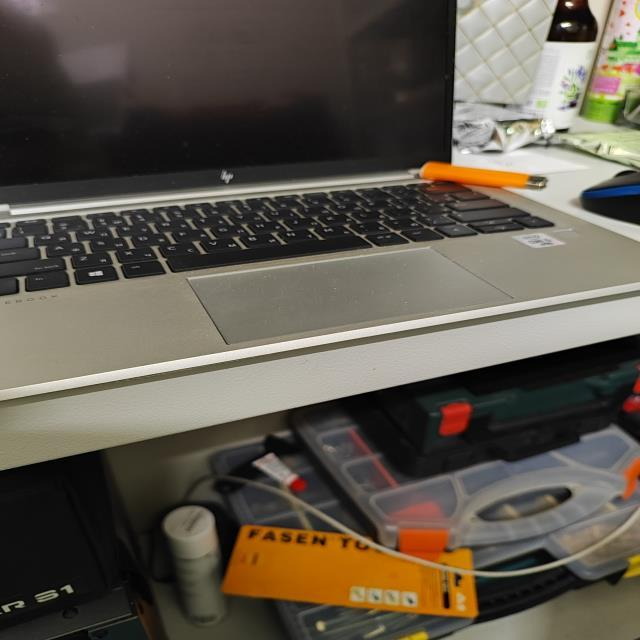lighter: (418, 162, 547, 189)
